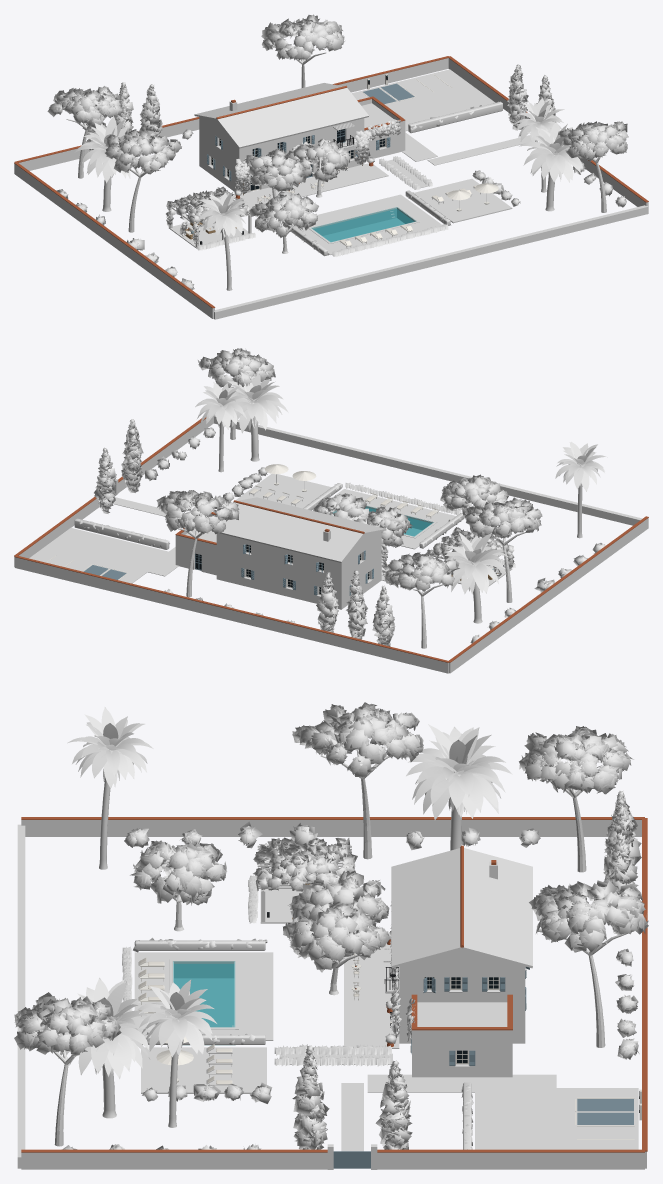
File: venue.glb
3 views of the same model, one above another, from view 1: azimuth 30°, elevation 25°; view 2: azimuth 150°, elevation 25°; view 3: azimuth 270°, elevation 25° (orthographic). The views are drawn at different scales.
Visible parts, largest first — view 1: Veg_pine, Plaster_misc, Veg_palm, ROOF_tiles, Veg_broad, Gravel, Stone_walls, Teak_deck, Veg_cypress, Stone_deck, House_upper, Terracotta_caps (+13 smaller); view 2: Plaster_misc, Veg_pine, Veg_palm, ROOF_tiles, Veg_cypress, Gravel, Veg_broad, Stone_walls, House_ground, House_upper, Terracotta_caps, Teak_deck (+8 smaller); view 3: Veg_pine, Plaster_misc, Veg_palm, ROOF_tiles, Gravel, Veg_broad, Veg_cypress, Terracotta_caps, Stone_deck, Teak_deck, Wing_walls, Floors (+20 smaller).
Boxes of the visible parts, x1,y1,x2,y2 form: Veg_pine: (47, 14, 628, 174); Plaster_misc: (14, 58, 648, 318); Veg_palm: (74, 98, 582, 236); ROOF_tiles: (194, 83, 368, 148); Veg_broad: (243, 138, 350, 237); Gravel: (352, 69, 531, 188); Stone_walls: (214, 205, 648, 319); Teak_deck: (168, 178, 512, 248); Veg_cypress: (82, 64, 555, 151); Stone_deck: (292, 194, 442, 254); House_upper: (199, 117, 364, 165); Terracotta_caps: (14, 56, 648, 308); Plaster_misc: (14, 415, 648, 673); Veg_pine: (156, 348, 542, 591); Veg_palm: (195, 372, 606, 593); ROOF_tiles: (212, 497, 386, 562); Veg_cypress: (94, 419, 395, 646); Gravel: (29, 497, 182, 583); Veg_broad: (313, 474, 508, 547); Stone_walls: (214, 414, 642, 525); House_ground: (216, 553, 381, 609); House_upper: (216, 531, 381, 583); Terracotta_caps: (14, 417, 648, 662); Teak_deck: (233, 474, 512, 586); Veg_pine: (14, 702, 648, 1054); Plaster_misc: (21, 820, 646, 1169); Veg_palm: (58, 707, 512, 1078); ROOF_tiles: (391, 848, 532, 968); Gravel: (279, 1053, 638, 1151); Veg_broad: (130, 840, 390, 972); Veg_cypress: (292, 790, 641, 1149); Terracotta_caps: (21, 817, 647, 1152); Stone_deck: (134, 952, 273, 1040); Teak_deck: (141, 883, 325, 1093); Wing_walls: (412, 1030, 512, 1077); Floors: (344, 943, 399, 1048).
Bounding box in the file's own units: 62.97 × 14.87 × 50.42.
